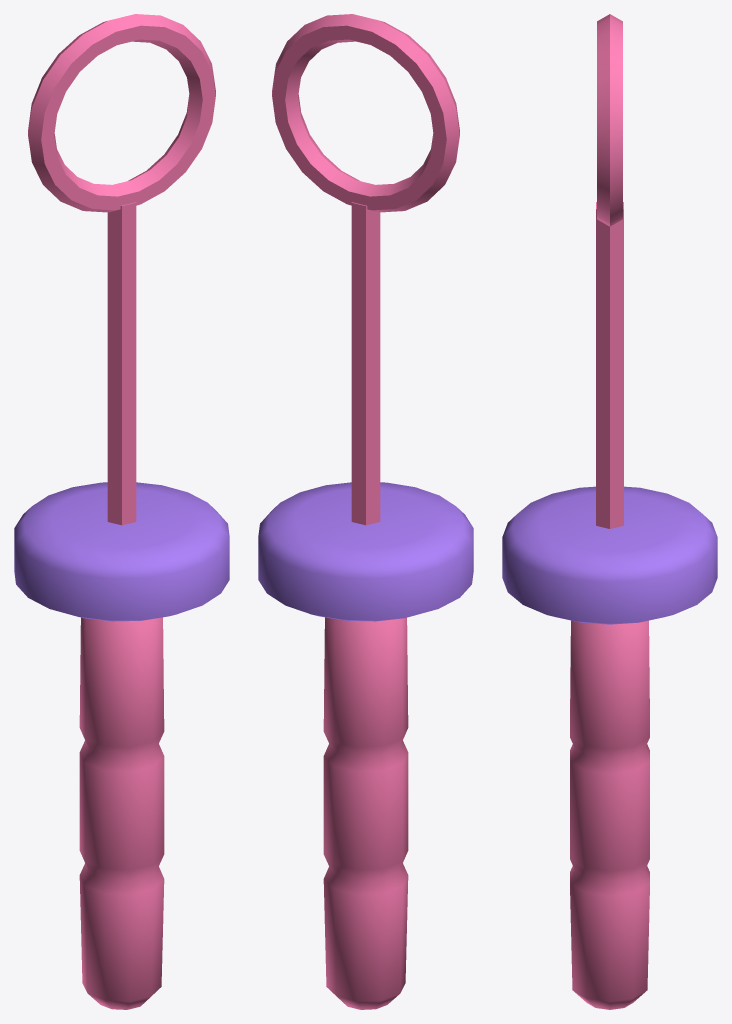
File: BubbleWand.fbx
3 renders of one model, left to right at view 1: azimuth 30°, elevation 25°; view 2: azimuth 150°, elevation 25°; view 3: azimuth 270°, elevation 25°, orthographic.
Parts seen in each view (by area): view 1: BubbleWand; view 2: BubbleWand; view 3: BubbleWand.
Boxes of the visible parts, left/top/right/bottom form: BubbleWand: left=14, top=14, right=229, bottom=1009; BubbleWand: left=258, top=14, right=473, bottom=1009; BubbleWand: left=502, top=14, right=717, bottom=1009.
Size of the model in its own units: 0.08 by 0.4 by 0.08.
